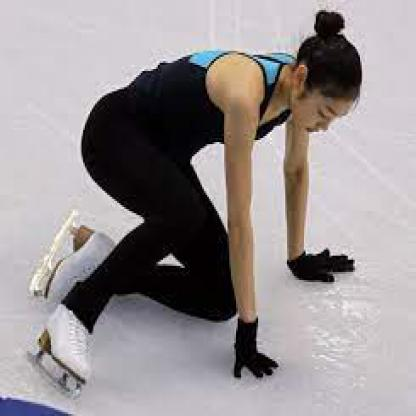Fall_Down: (39, 9, 364, 382)
